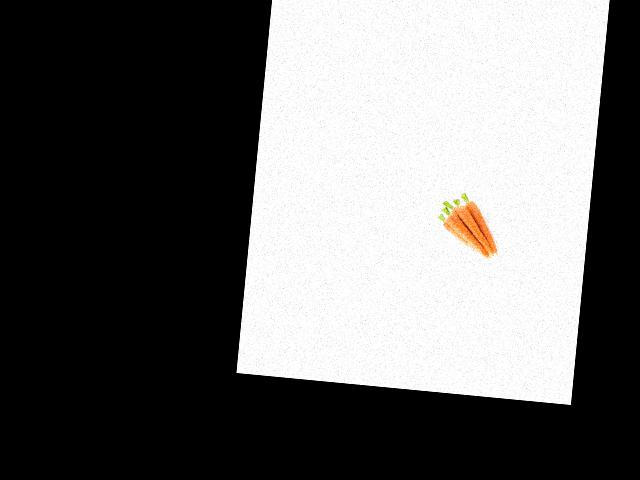carrot: (462, 197, 506, 253)
